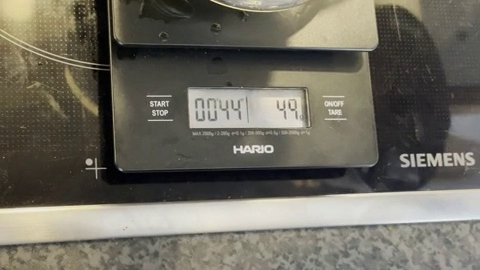display: (187, 87, 309, 127)
